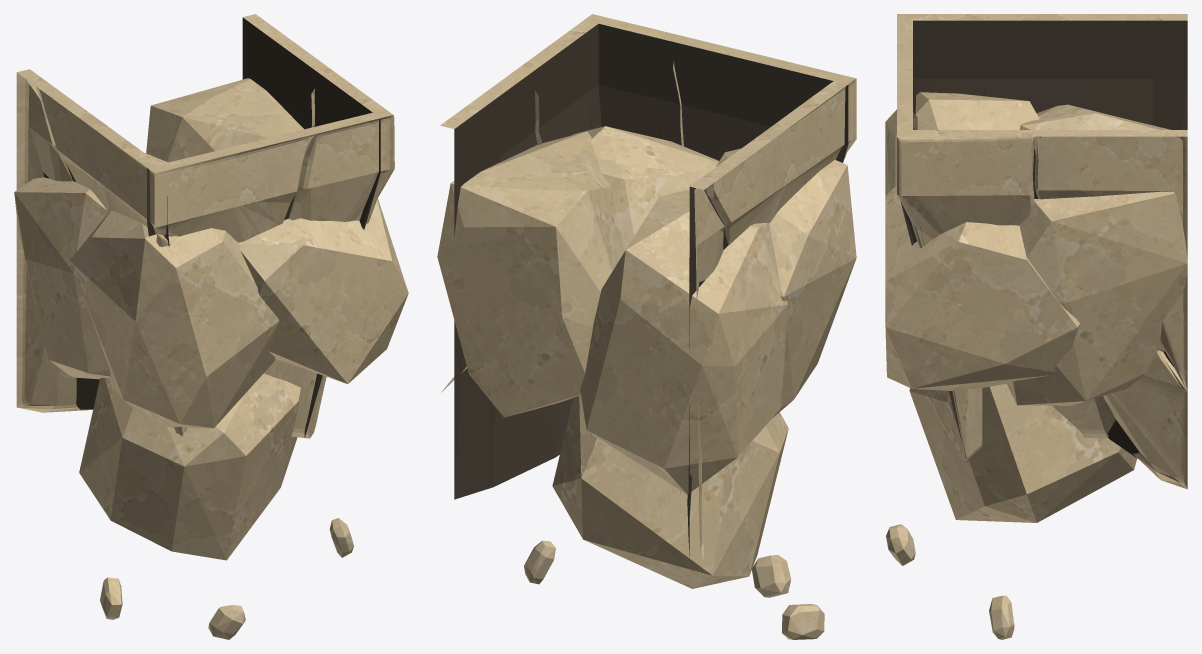
Rendered from ground_bottom_square_end_06.glb.
3 views of the same model, side by side, from view 1: azimuth 30°, elevation 25°; view 2: azimuth 150°, elevation 25°; view 3: azimuth 270°, elevation 25° (orthographic). The views are drawn at different scales.
Parts seen in each view (by area): view 1: GroundBottomSquareEnd06_Body; view 2: GroundBottomSquareEnd06_Body; view 3: GroundBottomSquareEnd06_Body.
Part boxes in pixels (x1,y1,x2,y2): GroundBottomSquareEnd06_Body: (14,14,408,639); GroundBottomSquareEnd06_Body: (437,14,856,639); GroundBottomSquareEnd06_Body: (885,14,1187,639).
Bounding box in the file's own units: 1.08 × 1.95 × 1.04.
11 materials, 10 textured.
